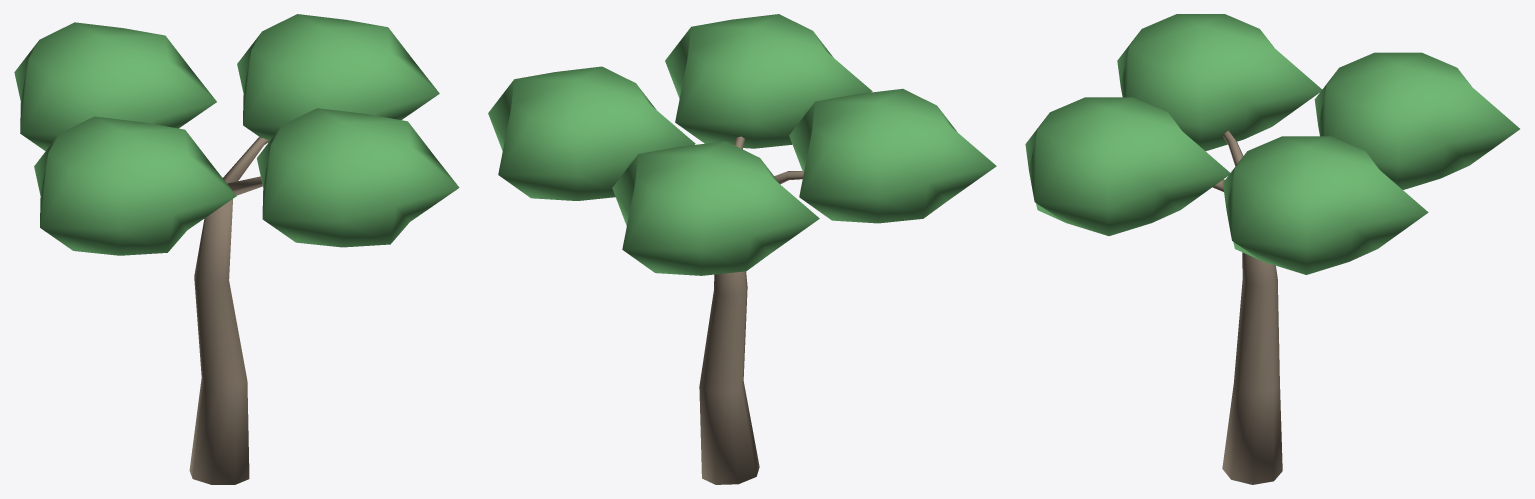
File: tree_sweet_chestnut.glb
3 views of the same model, side by side, from view 1: azimuth 30°, elevation 25°; view 2: azimuth 150°, elevation 25°; view 3: azimuth 270°, elevation 25° (orthographic). The views are drawn at different scales.
Visible parts, largest first — view 1: Flora_Sweet_Chestnut; view 2: Flora_Sweet_Chestnut; view 3: Flora_Sweet_Chestnut.
Boxes of the visible parts, bbox=[...] form: Flora_Sweet_Chestnut: bbox=[14, 14, 459, 484]; Flora_Sweet_Chestnut: bbox=[488, 14, 996, 484]; Flora_Sweet_Chestnut: bbox=[1025, 14, 1519, 484].
Size of the model in its own units: 9.22 by 7.75 by 9.
